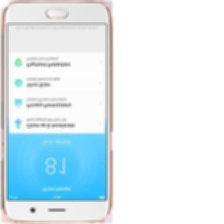phone: (0, 0, 114, 224)
